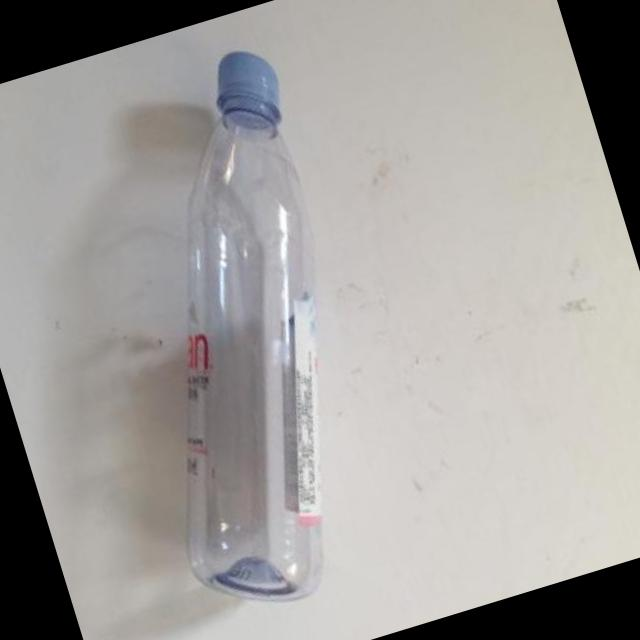BotolPlastik: (50, 41, 428, 629)
